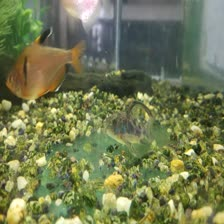Kiros: (95, 98, 161, 144)
Transparente: (3, 21, 86, 101)
